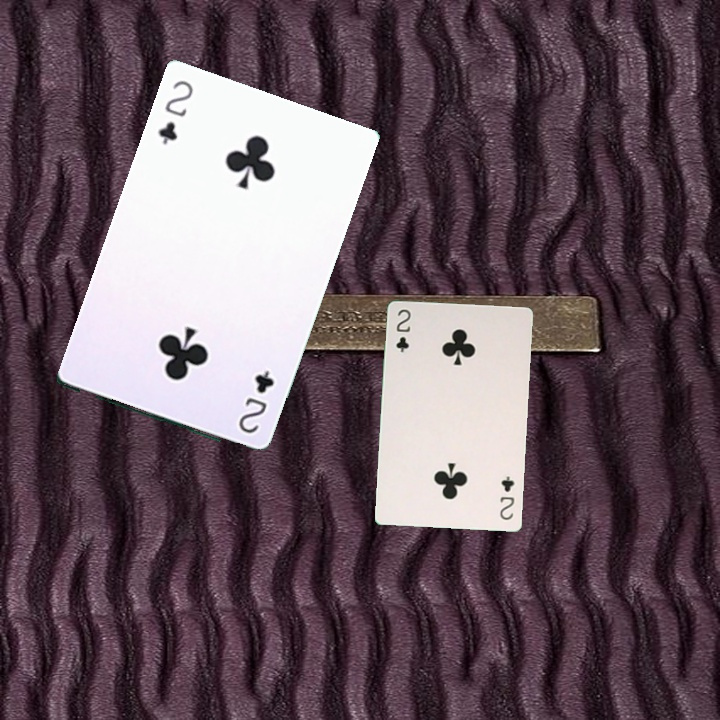2c: (154, 76, 196, 148), (234, 366, 277, 436), (496, 472, 517, 522), (392, 305, 413, 355)
